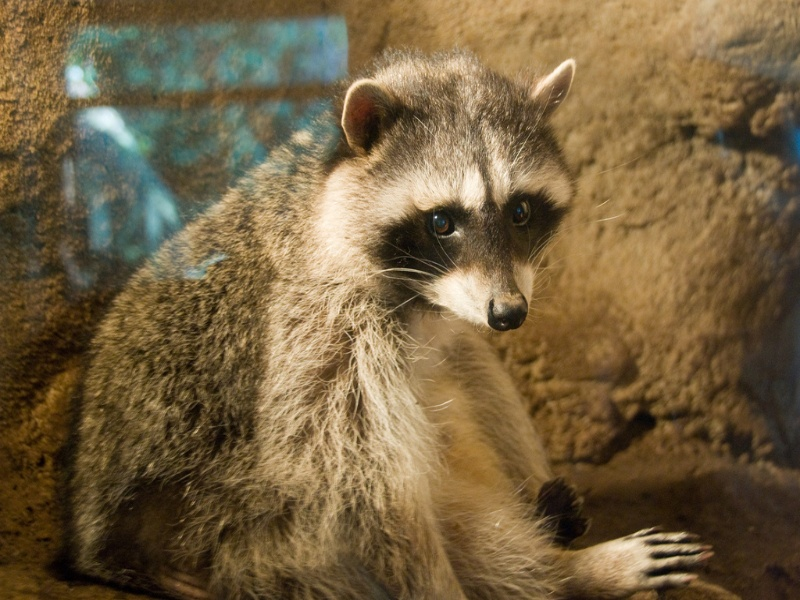raccoon: (72, 51, 714, 592)
